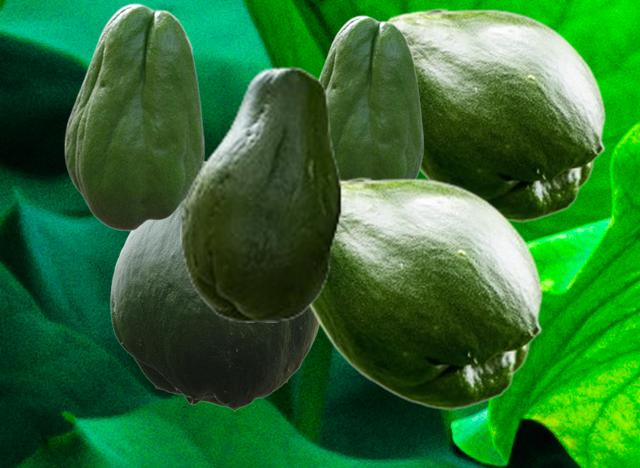sayote: (308, 177, 542, 409), (385, 8, 605, 221), (110, 204, 319, 410), (180, 66, 341, 321), (64, 3, 204, 230), (318, 15, 423, 178)
